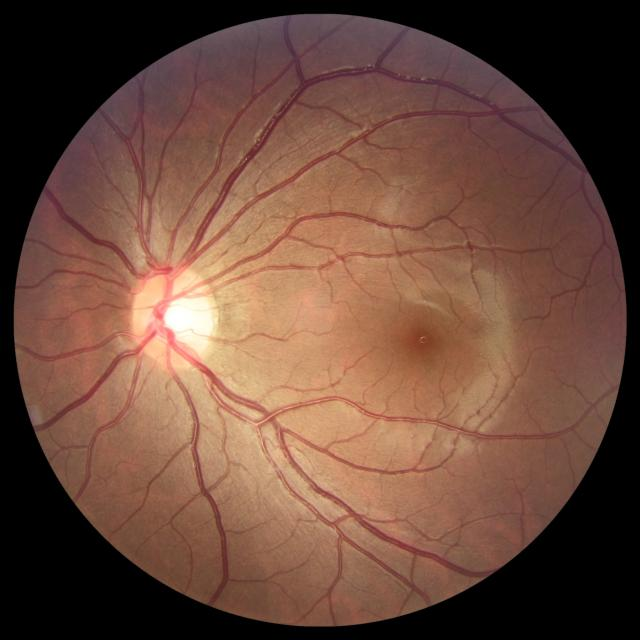OC: (160, 293, 209, 344)
OD: (130, 262, 216, 366)
